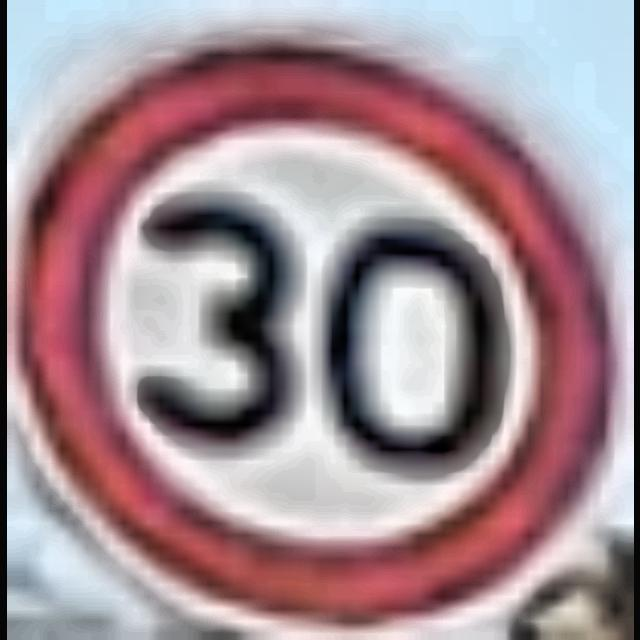speed_30: (6, 0, 634, 640)
